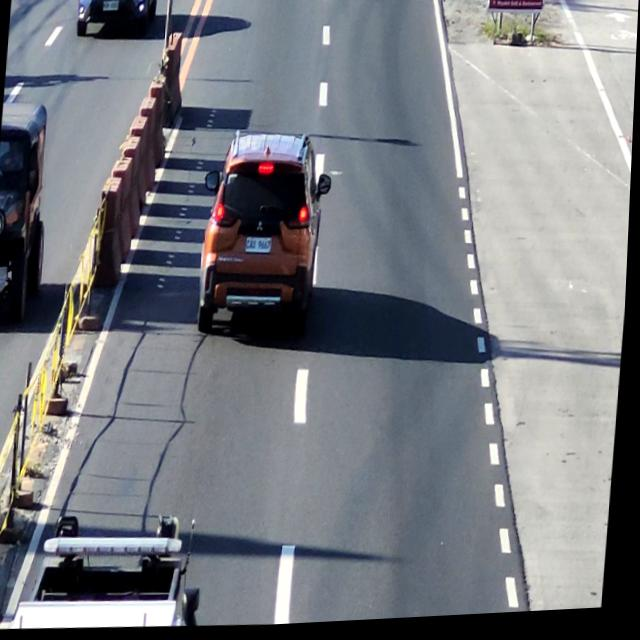Car: (198, 128, 332, 348)
License-Plate: (246, 235, 275, 258)
